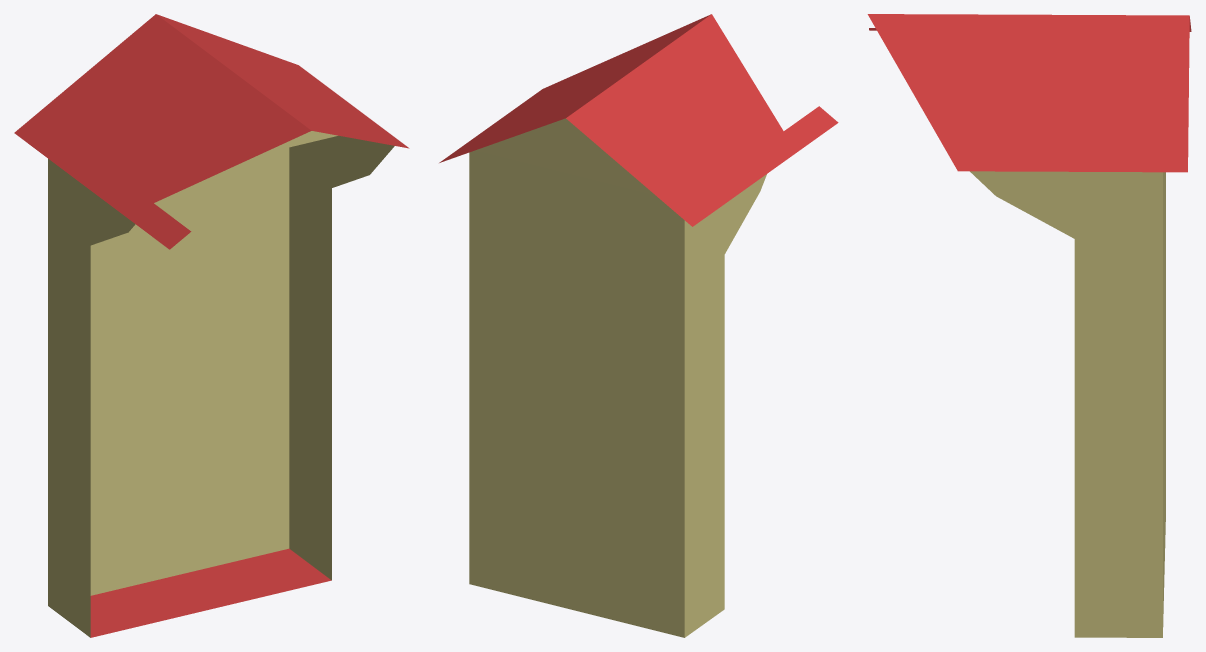
3 renders of one model, left to right at view 1: azimuth 30°, elevation 25°; view 2: azimuth 150°, elevation 25°; view 3: azimuth 270°, elevation 25°, orthographic. The views are drawn at different scales.
Bounding box in the file's own units: 6.61 × 6.39 × 12.24.
